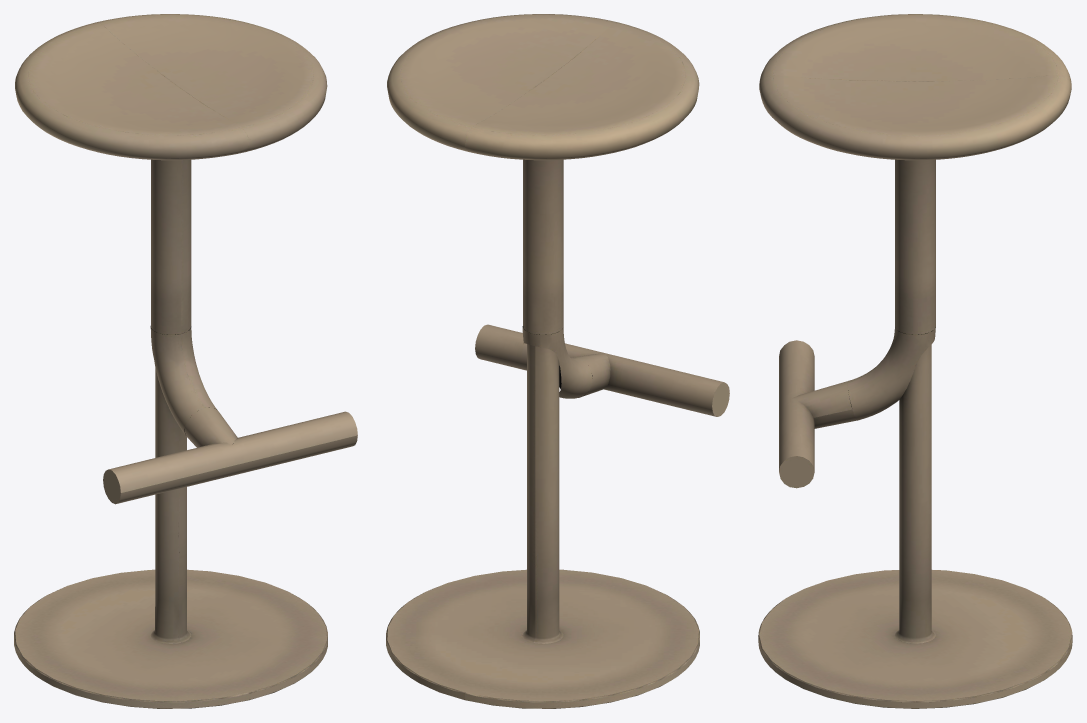
Rendered from tibu_black_laquered_metal.glb.
The picture shows the model from 3 angles, left to right: view 1: azimuth 30°, elevation 25°; view 2: azimuth 150°, elevation 25°; view 3: azimuth 270°, elevation 25°; orthographic projection.
Parts seen in each view (by area): view 1: tibu-beige; view 2: tibu-beige; view 3: tibu-beige.
Part boxes in pixels (bbox=[...]): tibu-beige: bbox=[14, 14, 357, 708]; tibu-beige: bbox=[386, 14, 729, 708]; tibu-beige: bbox=[758, 14, 1072, 708].
Size of the model in its own units: 0.371 by 0.7437 by 0.371.
Materials: 1 (1 with a texture image).
